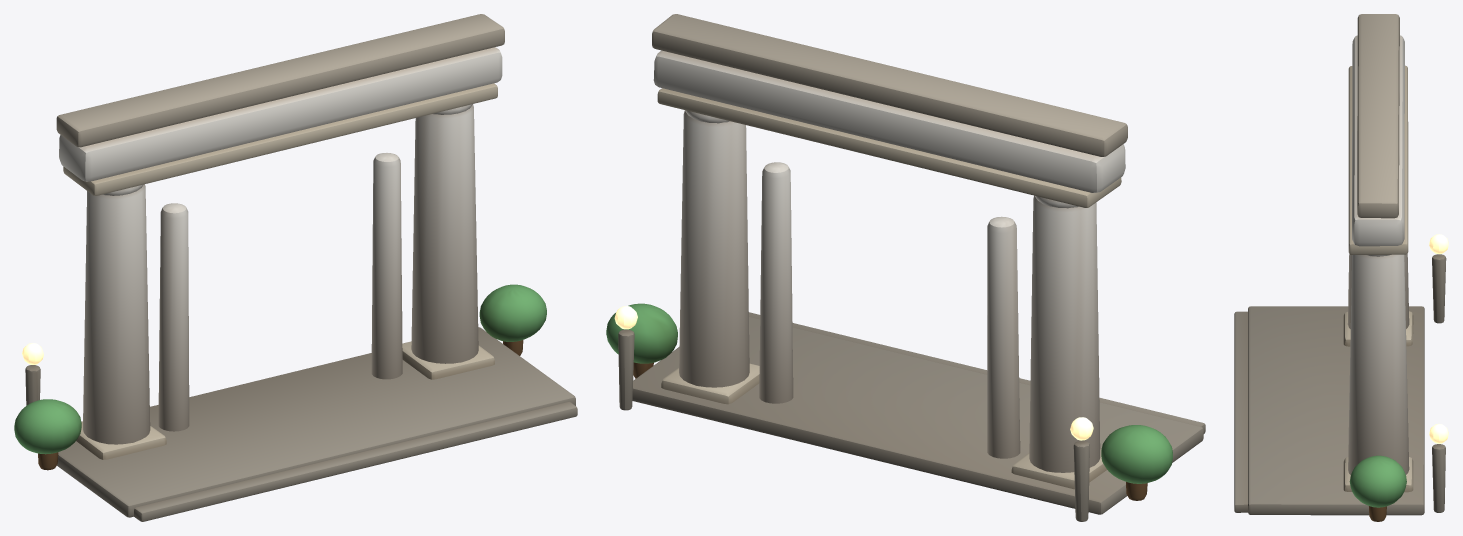
The picture shows the model from 3 angles, left to right: view 1: azimuth 30°, elevation 25°; view 2: azimuth 150°, elevation 25°; view 3: azimuth 270°, elevation 25°; orthographic projection. The views are drawn at different scales.
Visible parts, largest first — view 1: gate_13d12b0c; view 2: gate_13d12b0c; view 3: gate_13d12b0c.
Boxes of the visible parts, left/top/right/bottom form: gate_13d12b0c: left=14, top=14, right=577, bottom=521; gate_13d12b0c: left=606, top=14, right=1205, bottom=521; gate_13d12b0c: left=1234, top=14, right=1448, bottom=521.
Bounding box in the file's own units: 6.54 × 4.07 × 2.55.
